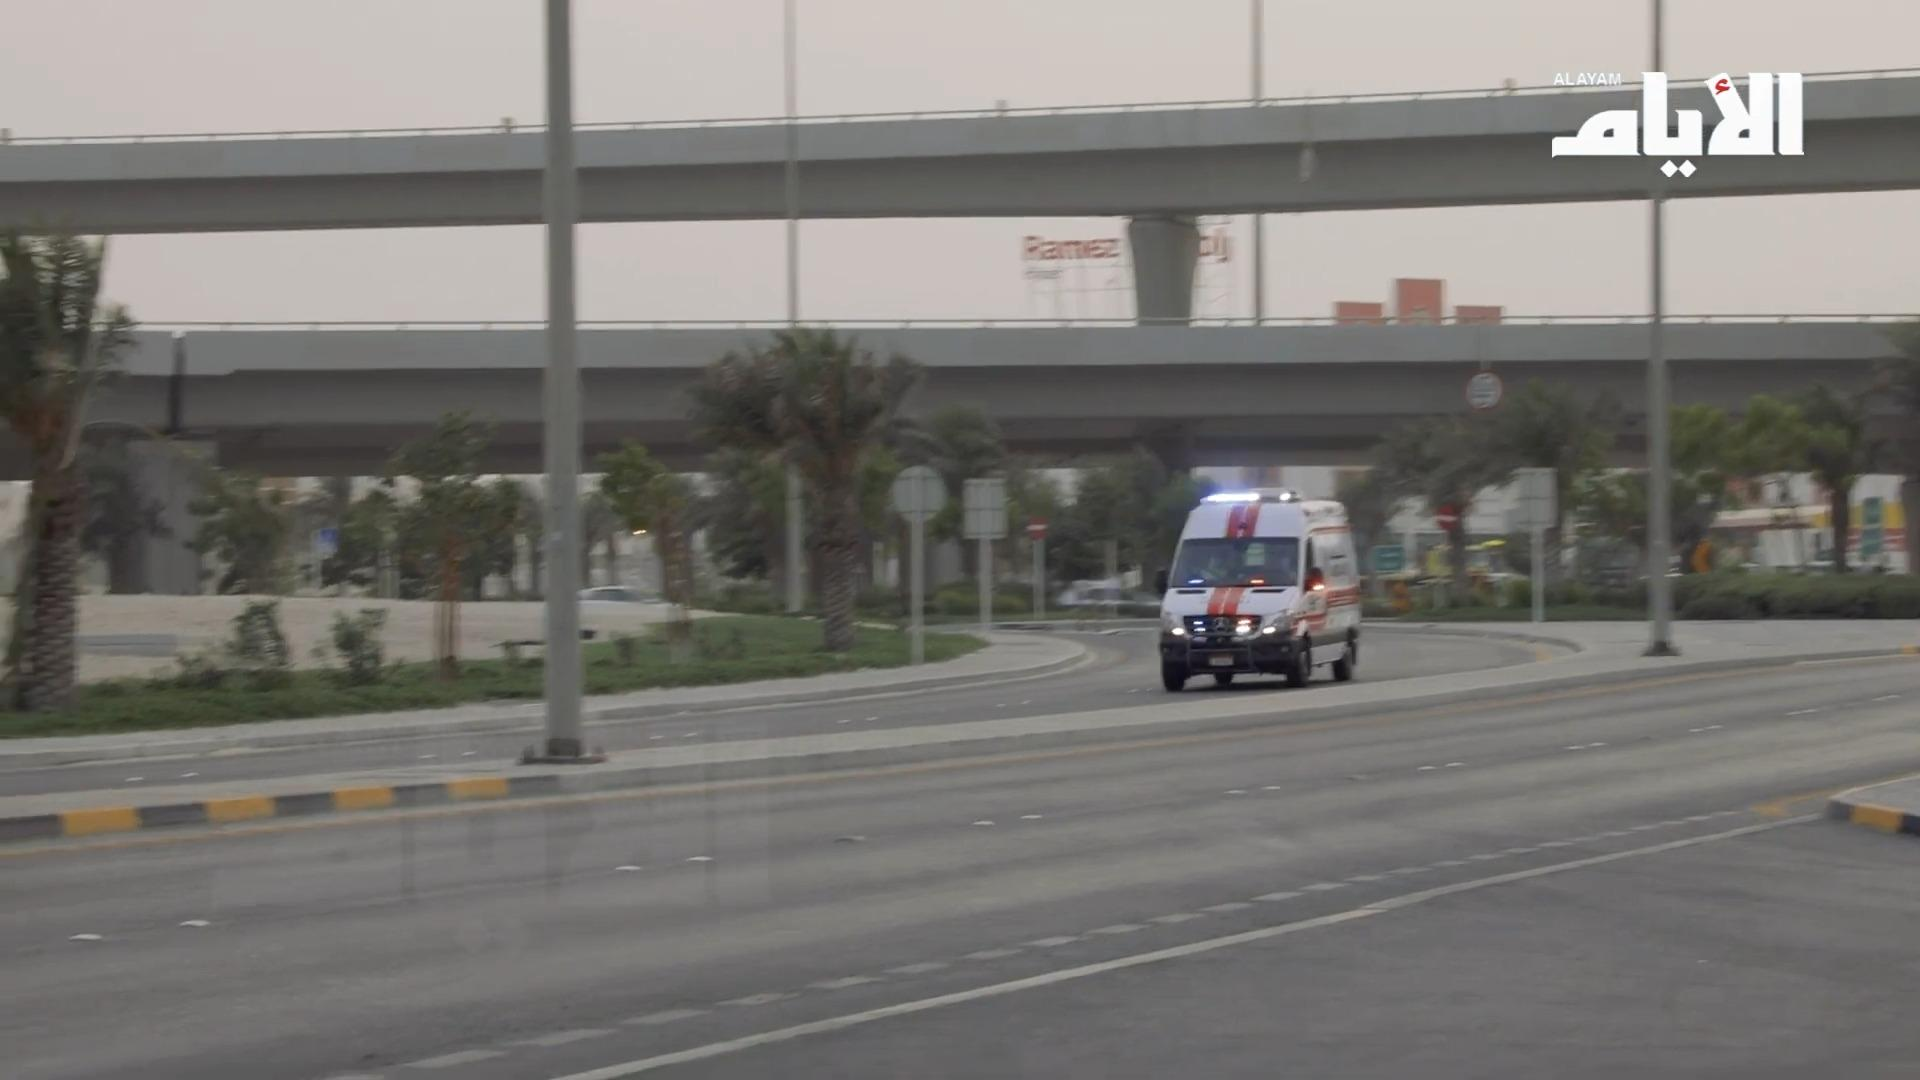ambulance_on: (1154, 487, 1360, 691)
